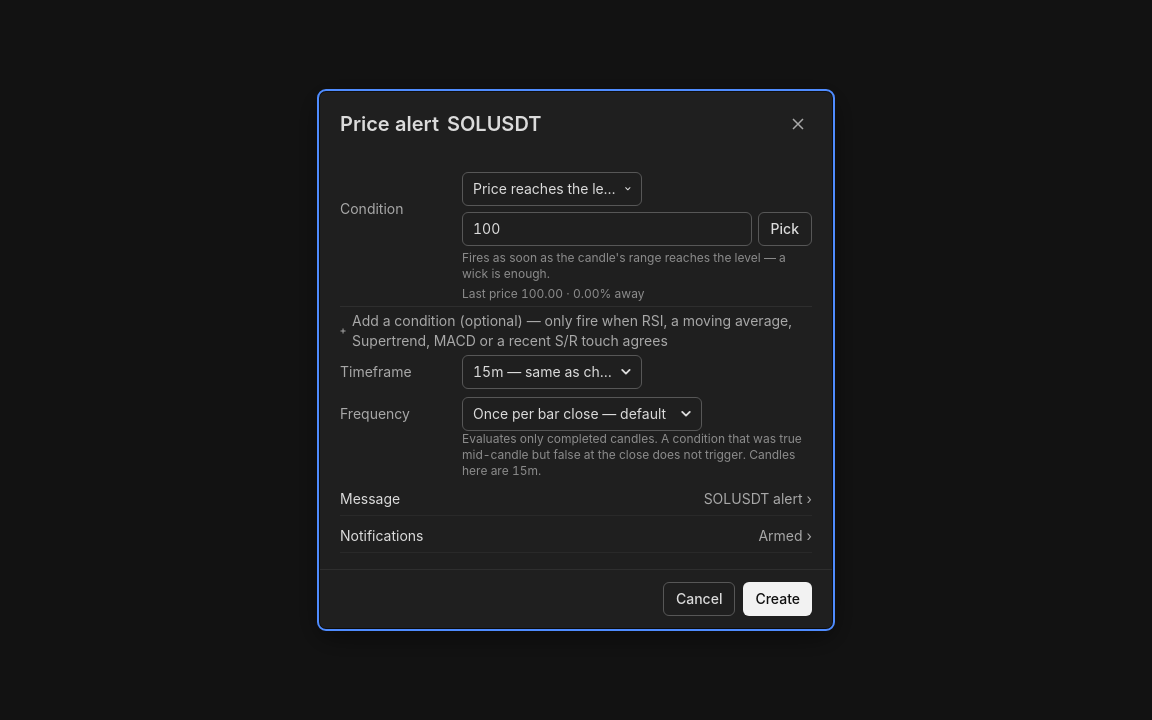
Scenario: each condition explains what it evaluates, and offers only conditions that exist
Click the button with aria-label "Alert condition" at (552, 189), box [462, 172, 642, 206]
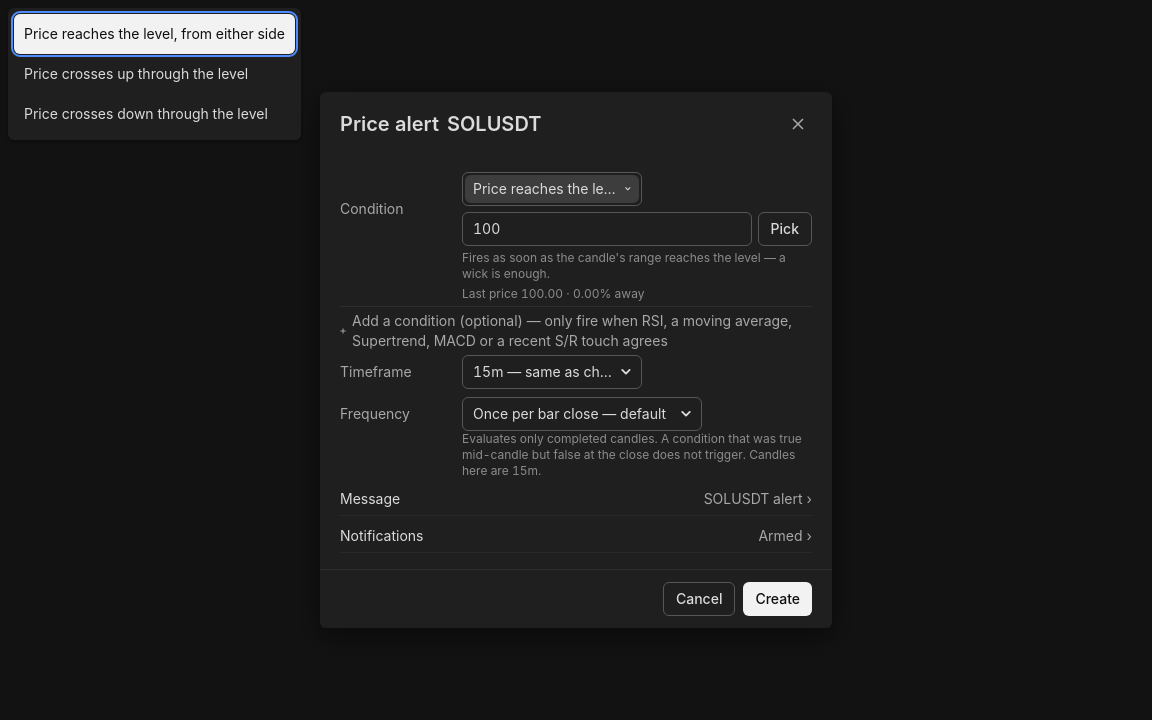
Press Escape in the option "Price reaches the level, from either side", box [14, 14, 295, 54]
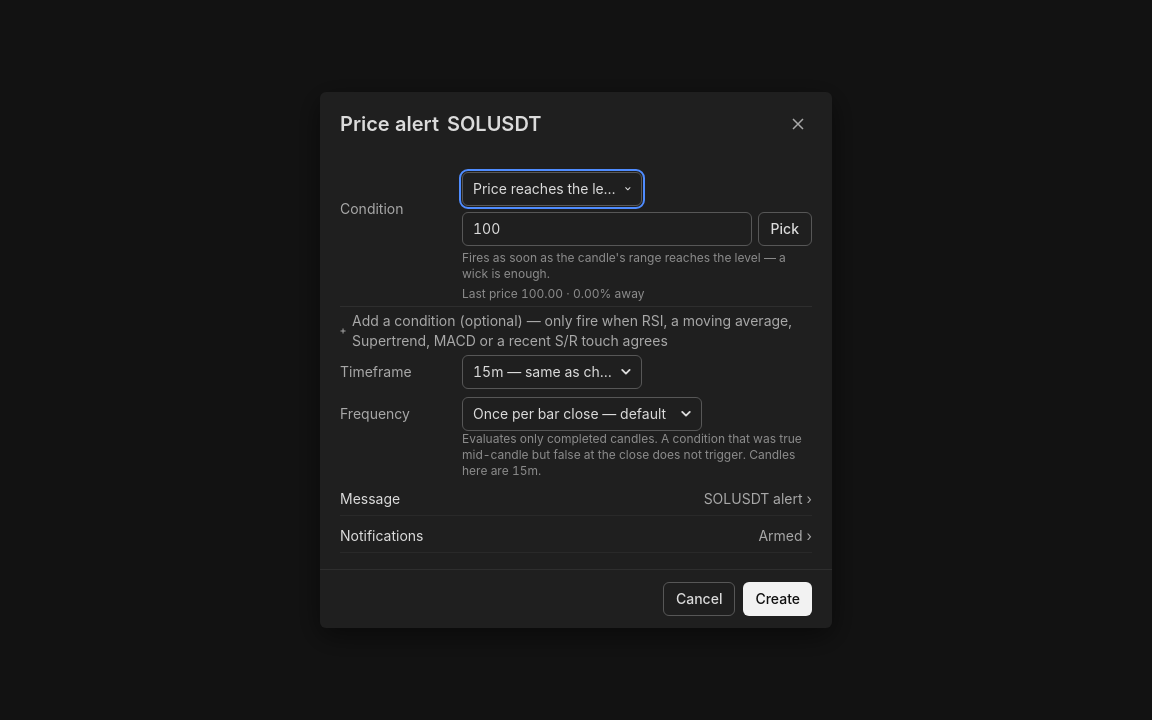
Expected: the text "a wick is enough" is shown, [462, 250, 786, 281]
Click the button with aria-label "Alert condition" at (552, 189), box [462, 172, 642, 206]
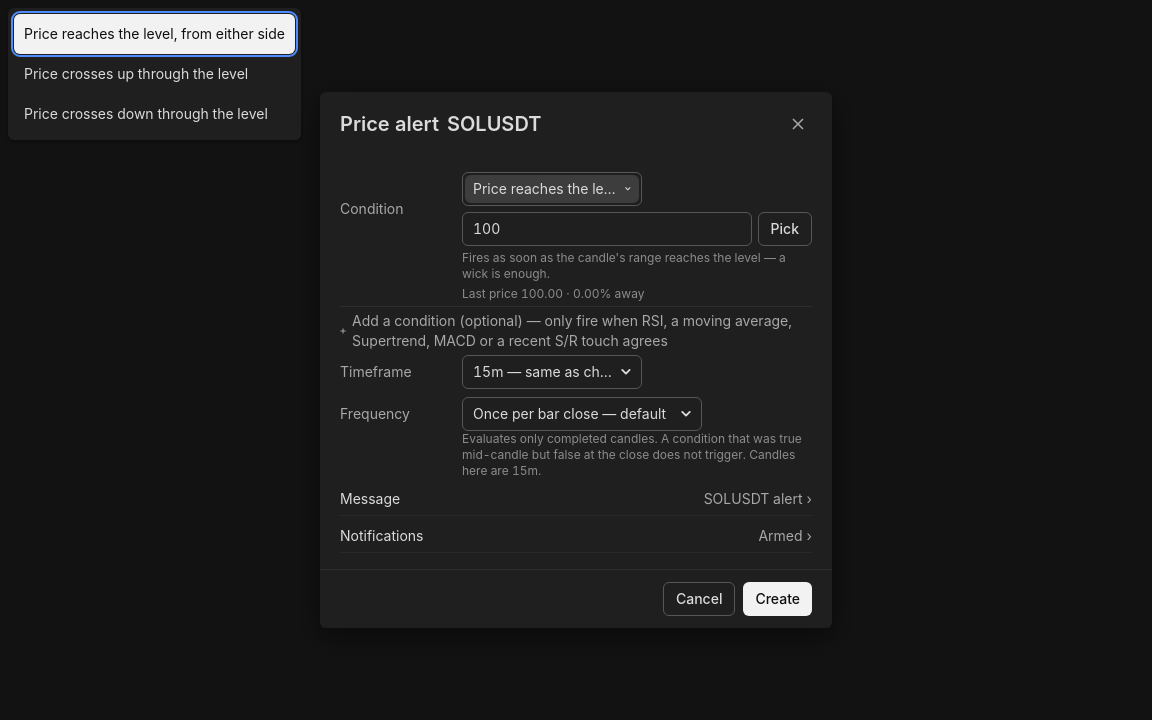
Click the option "Price crosses up through the level" at (154, 74), box [14, 54, 295, 94]
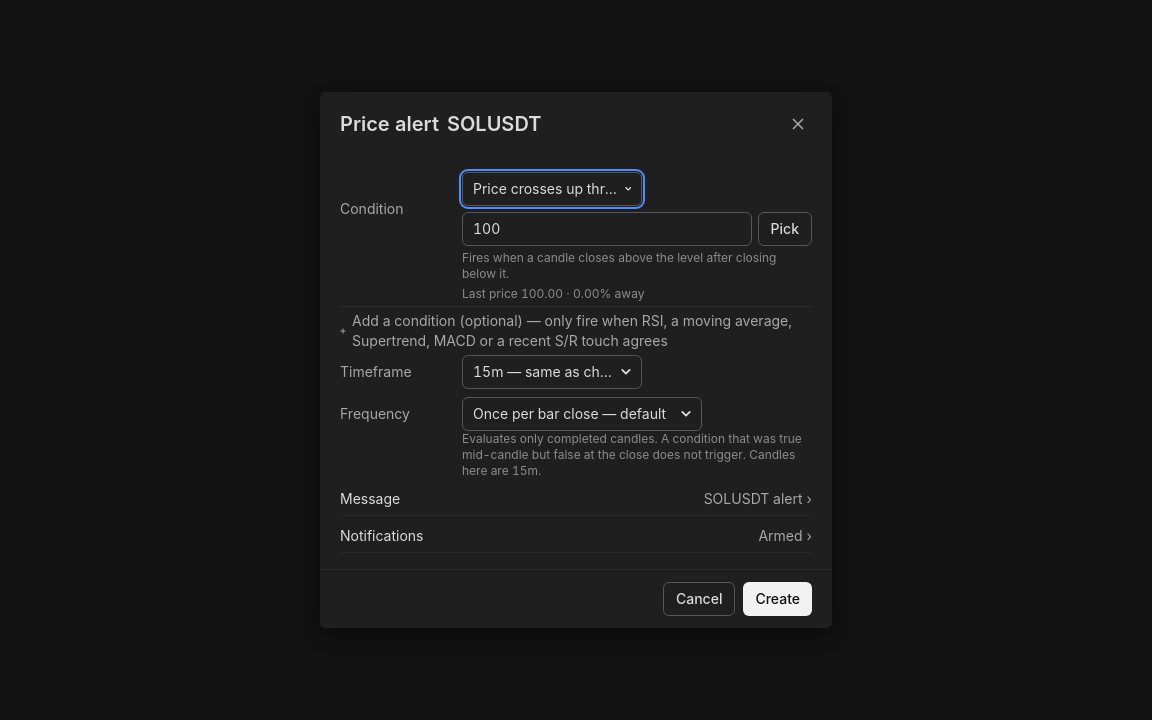
Expected: the text "closes above the level after closing below it" is shown, [462, 250, 776, 281]
Click the button with aria-label "Alert condition" at (552, 189), box [462, 172, 642, 206]
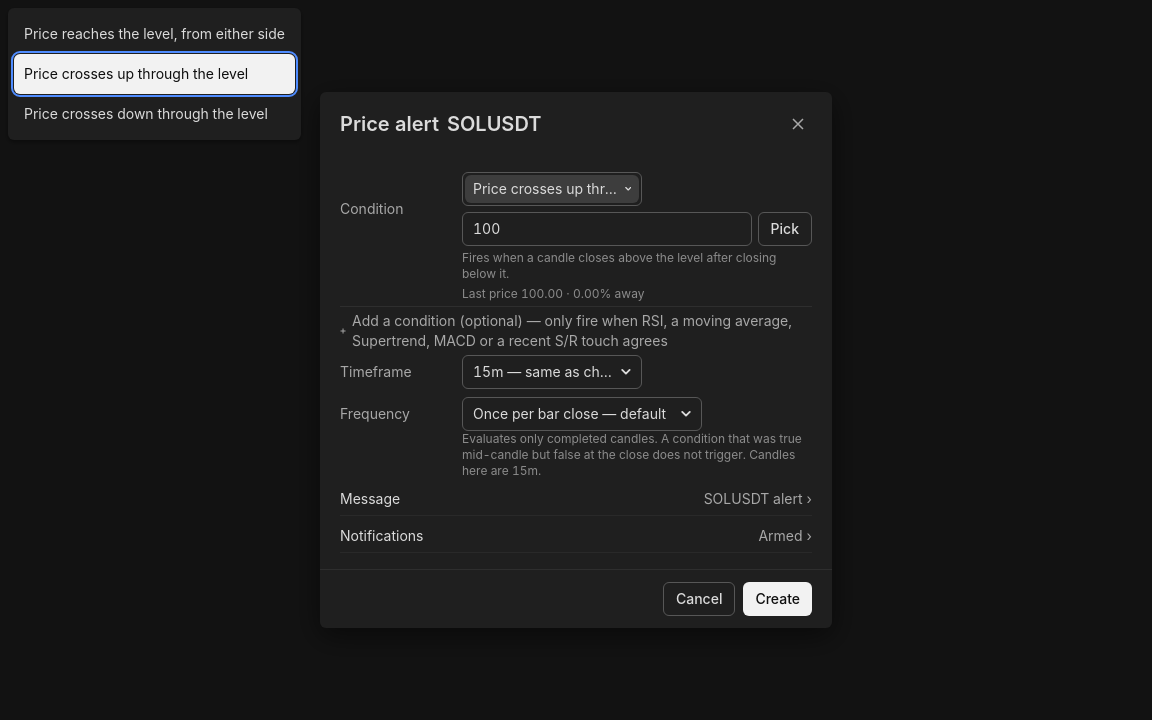
Click the option "Price crosses down through the level" at (154, 114), box [14, 94, 295, 134]
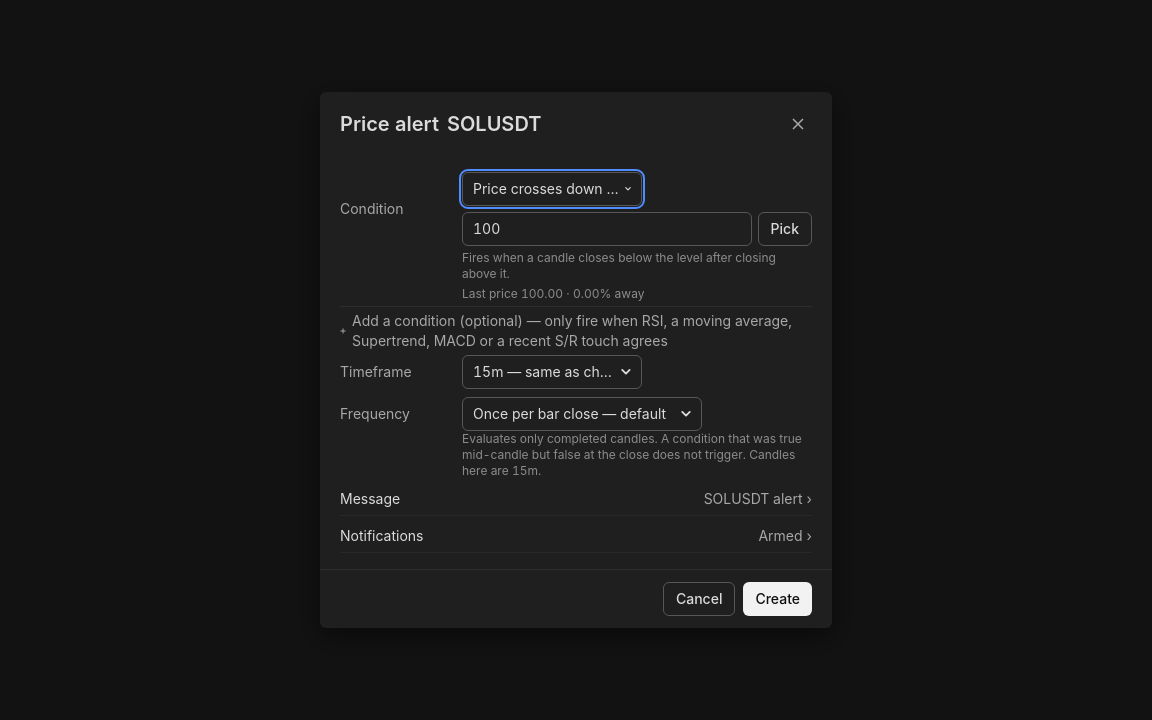
Expected: the text "closes below the level after closing above it" is shown, [462, 250, 776, 281]
